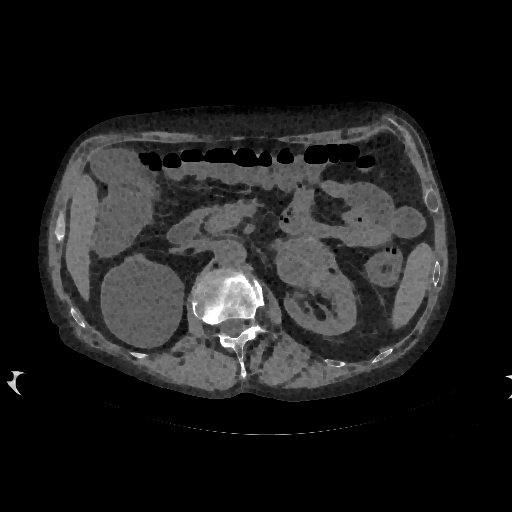Lesion: (270, 234, 340, 294)
